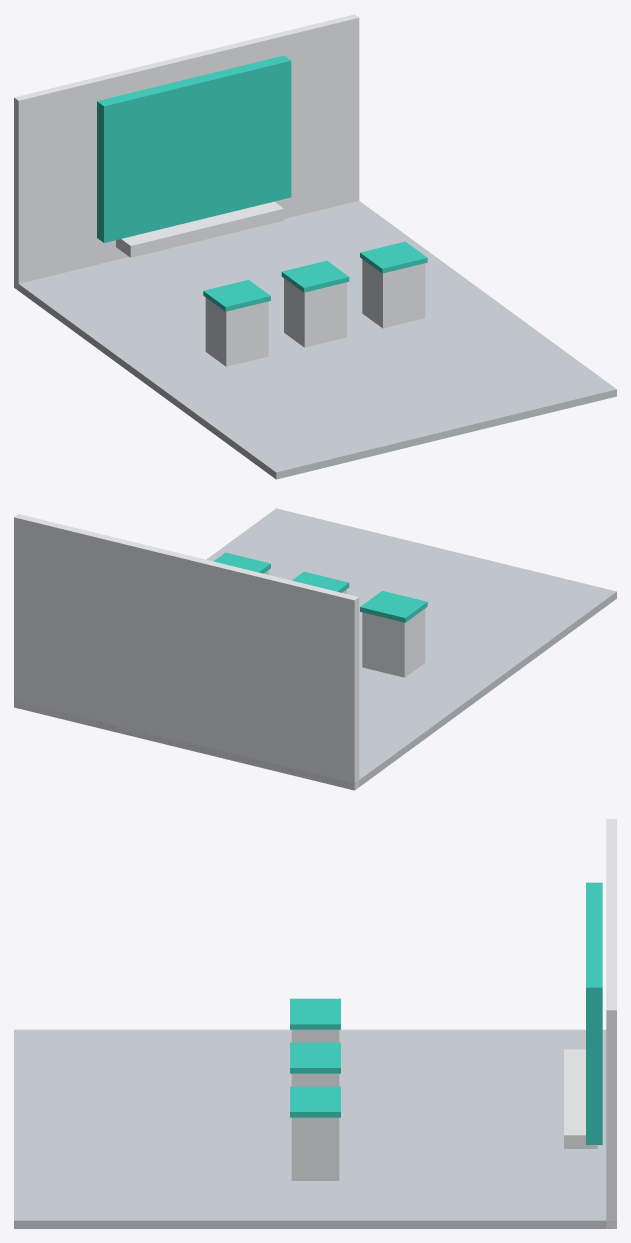
The picture shows the model from 3 angles, top to bottom: view 1: azimuth 30°, elevation 25°; view 2: azimuth 150°, elevation 25°; view 3: azimuth 270°, elevation 25°; orthographic projection. The views are drawn at different scales.
Parts seen in each view (by area): view 1: Exhibition Booth Concept; view 2: Exhibition Booth Concept; view 3: Exhibition Booth Concept.
Part boxes in pixels (<box>): Exhibition Booth Concept: <box>14,14,616,479</box>; Exhibition Booth Concept: <box>14,508,616,790</box>; Exhibition Booth Concept: <box>14,819,616,1228</box>.
Size of the model in its own units: 6 by 3.2 by 8.
